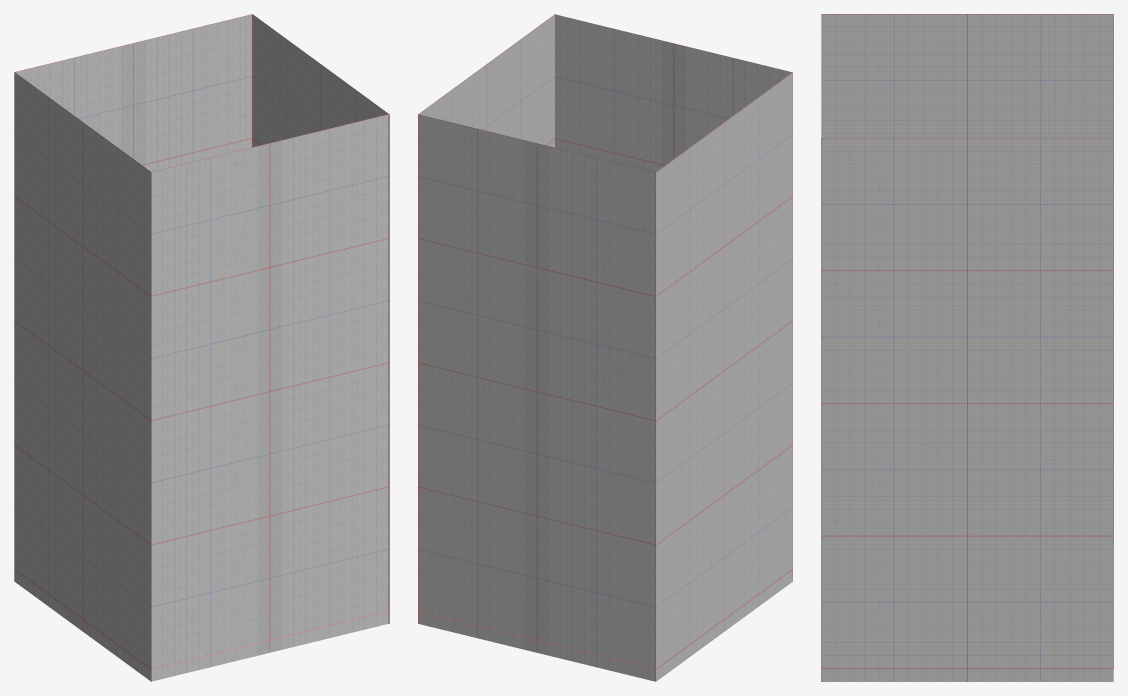
3 renders of one model, left to right at view 1: azimuth 30°, elevation 25°; view 2: azimuth 150°, elevation 25°; view 3: azimuth 270°, elevation 25°, orthographic. The views are drawn at different scales.
Visible parts, largest first — view 1: bg_meshgroupShape; view 2: bg_meshgroupShape; view 3: bg_meshgroupShape.
Boxes of the visible parts, x1,y1,x2,y2 form: bg_meshgroupShape: (14,14,389,681); bg_meshgroupShape: (418,14,792,681); bg_meshgroupShape: (821,14,1113,681).
Bounding box in the file's own units: 214 × 214 × 439.
Materials: 1 (1 with a texture image).
